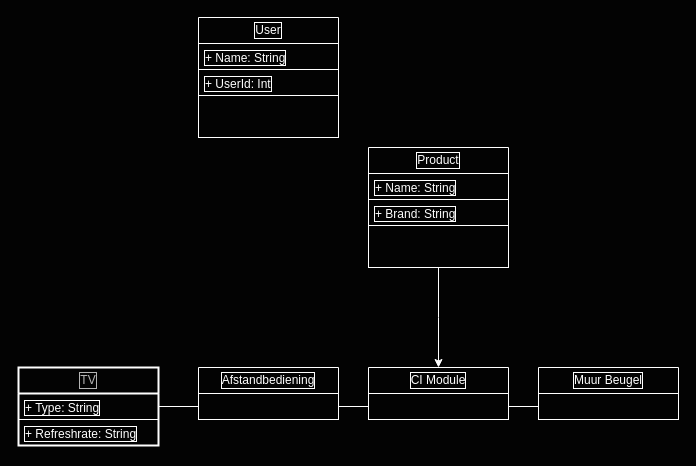
This 696x466 diagram has some shape labels left out. Each missing label, with the centre of its shape:
"+ Cover: boolean" goes at point (438, 406).
"+ Price: Int + units: Int" goes at point (438, 246).
"+ size: int" goes at point (608, 406).
"+ Touchscreen: boolean" goes at point (268, 406).
"username: String Password: String" goes at point (268, 116).
